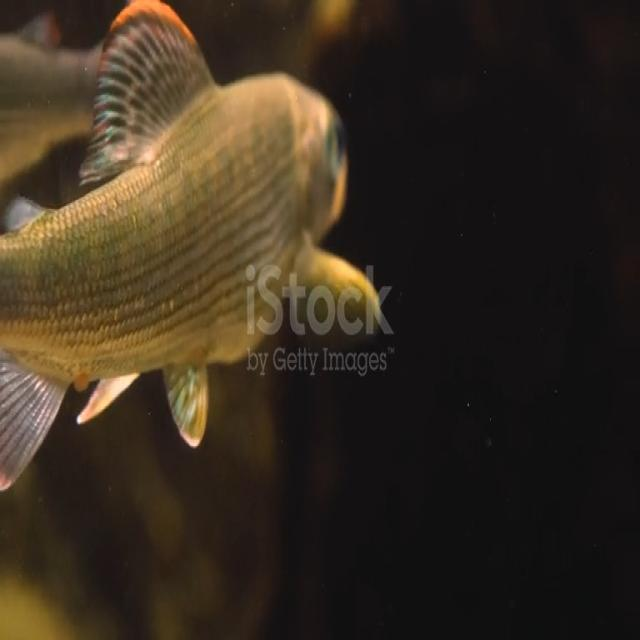fish: (0, 2, 383, 485)
